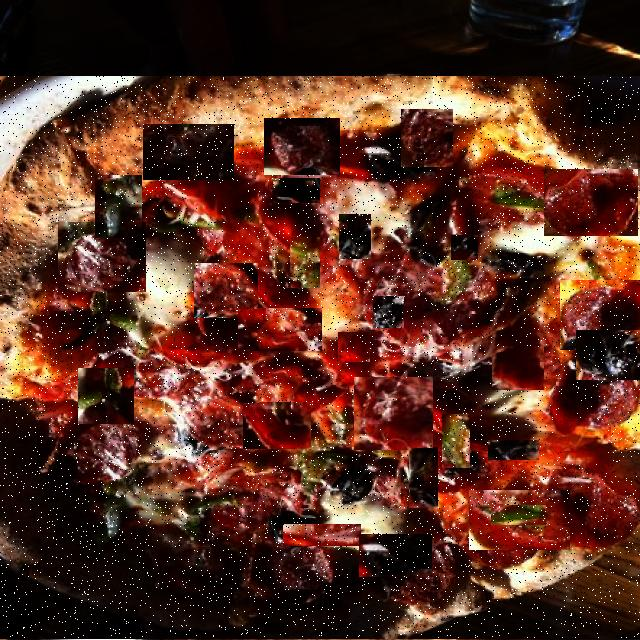Green Pepper: (78, 369, 134, 424), (95, 176, 142, 238), (187, 183, 245, 221), (561, 420, 608, 464), (442, 416, 470, 470), (290, 238, 320, 288), (491, 505, 546, 525)
Olives: (576, 330, 640, 380), (359, 535, 434, 577), (409, 448, 438, 508), (339, 215, 371, 259), (273, 179, 320, 203), (374, 297, 406, 328), (488, 441, 539, 460), (451, 236, 478, 260)
Pepperoni: (544, 170, 638, 236), (472, 149, 545, 233), (58, 223, 146, 292), (469, 491, 570, 550), (354, 378, 433, 450), (560, 281, 640, 350), (144, 125, 235, 180), (200, 357, 259, 431), (264, 119, 340, 175), (238, 309, 322, 351), (194, 264, 258, 318), (243, 403, 311, 449), (401, 110, 453, 167), (492, 347, 544, 390), (268, 464, 309, 516), (283, 526, 361, 548), (338, 333, 370, 362)
Pizza: (0, 77, 640, 638)
